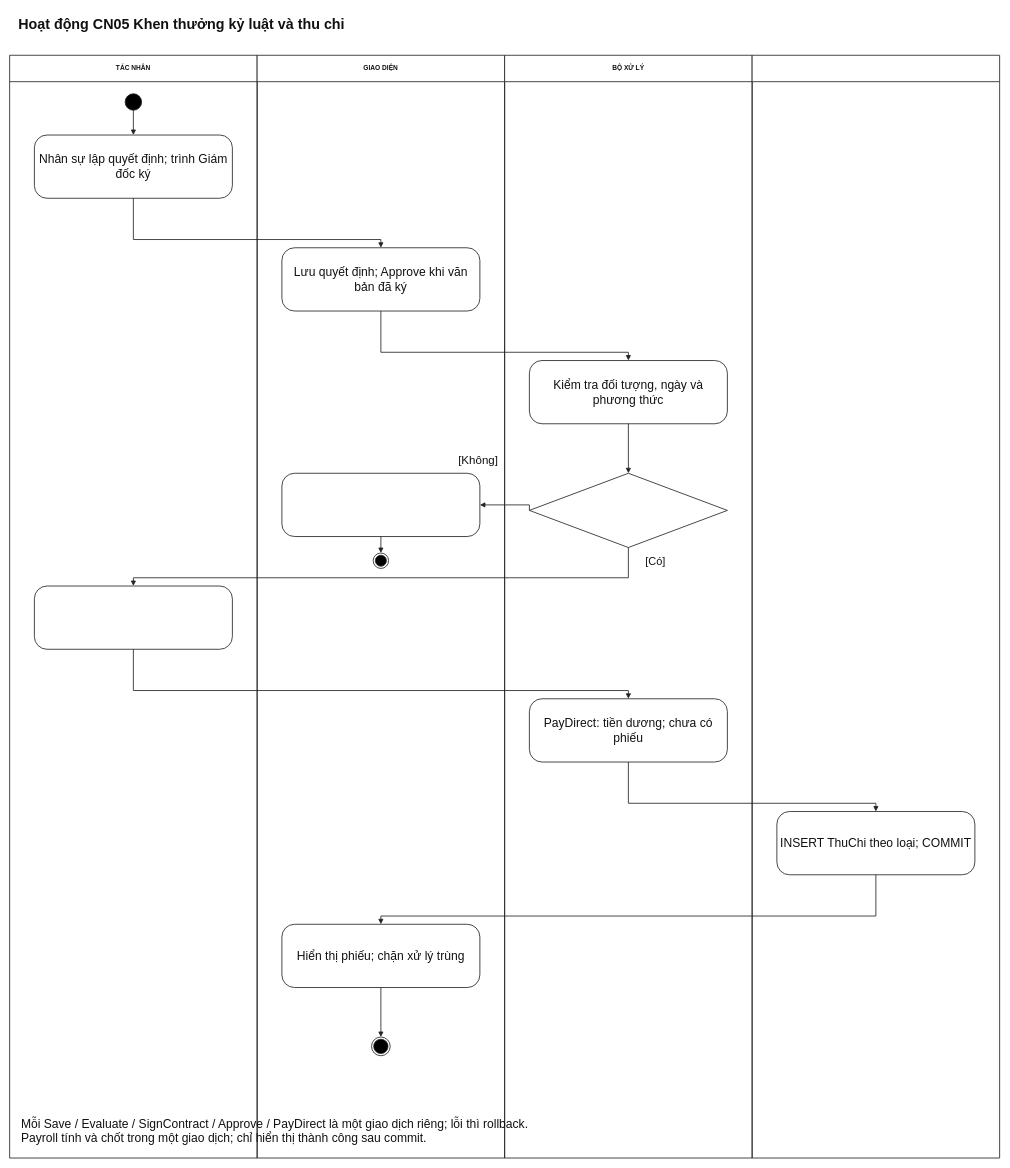
The diagram is 1010 pixels wide and 1168 high, and some of its shapes have lost their labels. The shapes that lost their labels are listed below. From the top down, each one's box as (x1, y1, x2, y2) in pixels, then its label:
(281, 473, 480, 537): Nếu Qua lương: chờ xử lý lúc chốt tháng
(529, 473, 728, 548): Đã ký; phương thức Trực tiếp?
(34, 585, 233, 649): Kế toán xác nhận tiền đã thu hoặc chi
(751, 55, 1000, 1158): DỮ LIỆU / Db
